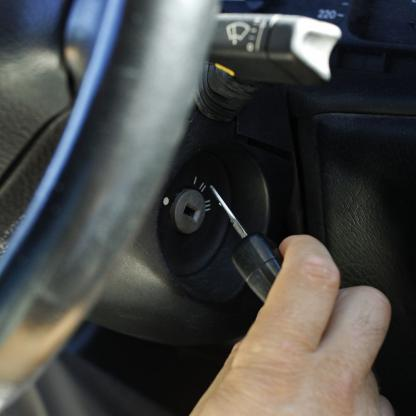keys: (201, 179, 294, 304)
